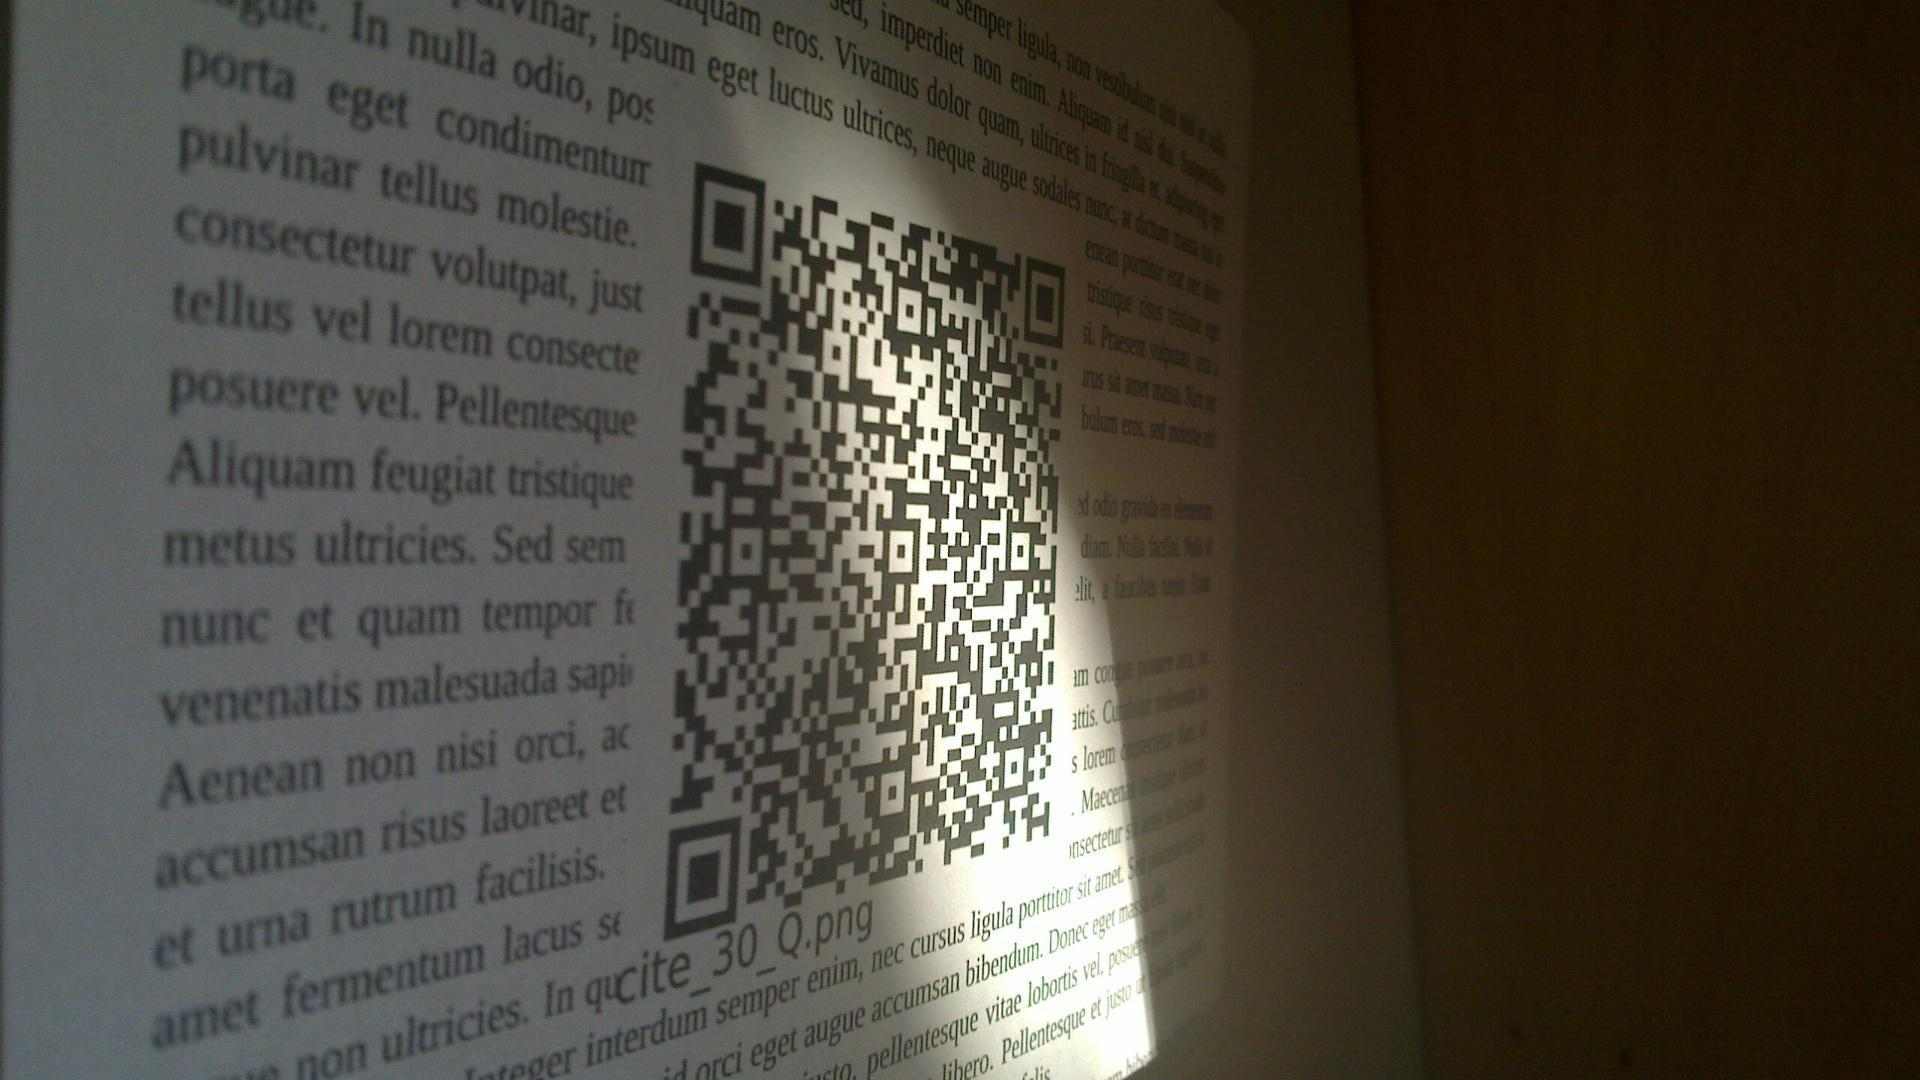qr_code: (665, 161, 1068, 943)
